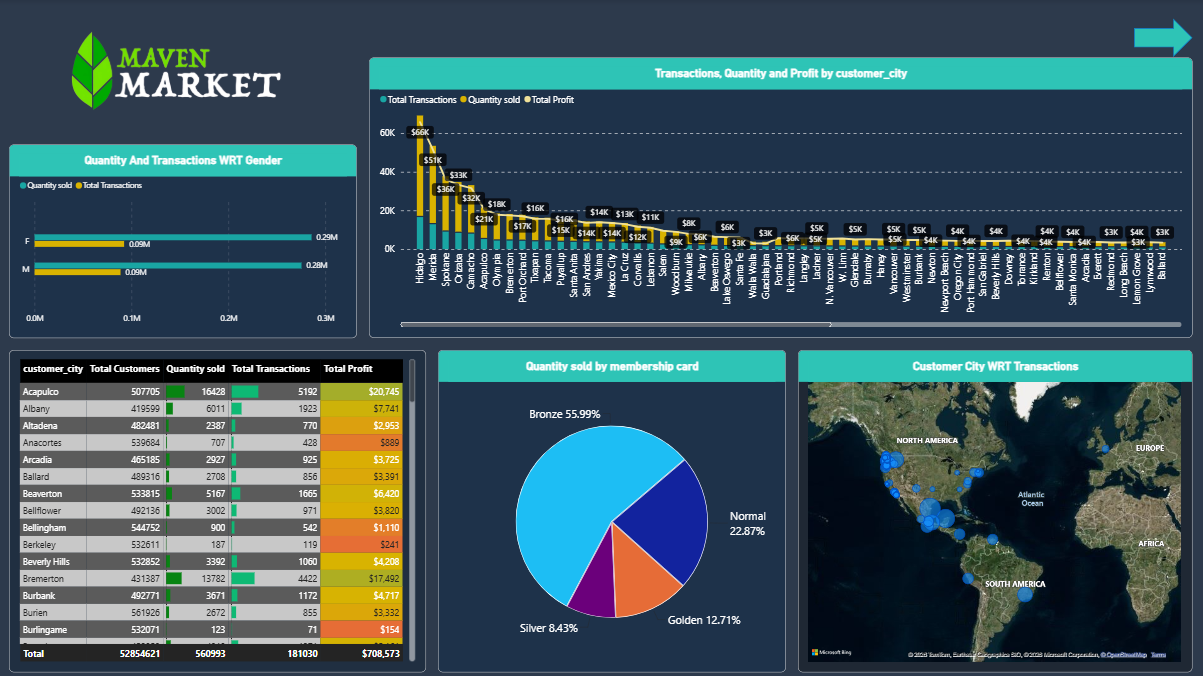

The page's visual inventory and layout, read from the dashboard file:
{"tool":"powerbi","page":{"name":"Customers","canvas":[1920,1080],"ordinal":3},"visuals":[{"type":"clusteredBarChart","title":"Quantity And Transactions WRT Gender","fields":{"Category":["Customers.gender"],"Y":["Transactions_Data.Quantity sold","Transactions_Data.Total Transactions"]},"box":[19.1,231.4,553.5,307.8],"z":0},{"type":"map","title":"Customer City WRT Transactions","fields":{"Category":["Customers.customer_city"],"Size":["Transactions_Data.Total Transactions"]},"box":[1274.1,558.3,627.5,513],"z":1000},{"type":"pieChart","title":"Quantity sold by membership card","fields":{"Category":["Customers.member_card"],"Y":["Transactions_Data.Quantity sold"]},"box":[701.5,558.3,553.5,513],"z":2000},{"type":"tableEx","fields":{"Values":["Customers.customer_city","Customers.Total Customers","Transactions_Data.Quantity sold","Transactions_Data.Total Transactions","Transactions_Data.Total Profit"]},"box":[19.1,558.3,663.3,513],"z":3000},{"type":"image","box":[0,0,572.6,231.4],"z":4000},{"type":"lineStackedColumnComboChart","title":"Transactions, Quantity and Profit by Customer City","fields":{"Category":["Customers.customer_city"],"Y":["Transactions_Data.Total Transactions","Transactions_Data.Quantity sold"],"Y2":["Transactions_Data.Total Profit"]},"box":[591.7,93.1,1309.9,446.2],"z":5000},{"type":"shape","box":[1808.5,31,93,61.2],"z":5001}]}

Visuals, with their boxes in screenshot pixels (x1, y1, x2, y2), scaled from the page's 1920x1080 canvas onto the 1203x676 screenshot:
"Quantity And Transactions WRT Gender" clusteredBarChart: [12,145,359,337]
"Customer City WRT Transactions" map: [798,349,1191,671]
"Quantity sold by membership card" pieChart: [440,349,786,671]
tableEx - Customers.customer_city x Customers.Total Customers: [12,349,428,671]
image: [0,0,359,145]
"Transactions, Quantity and Profit by Customer City" lineStackedColumnComboChart: [371,58,1191,338]
shape: [1133,19,1191,58]
